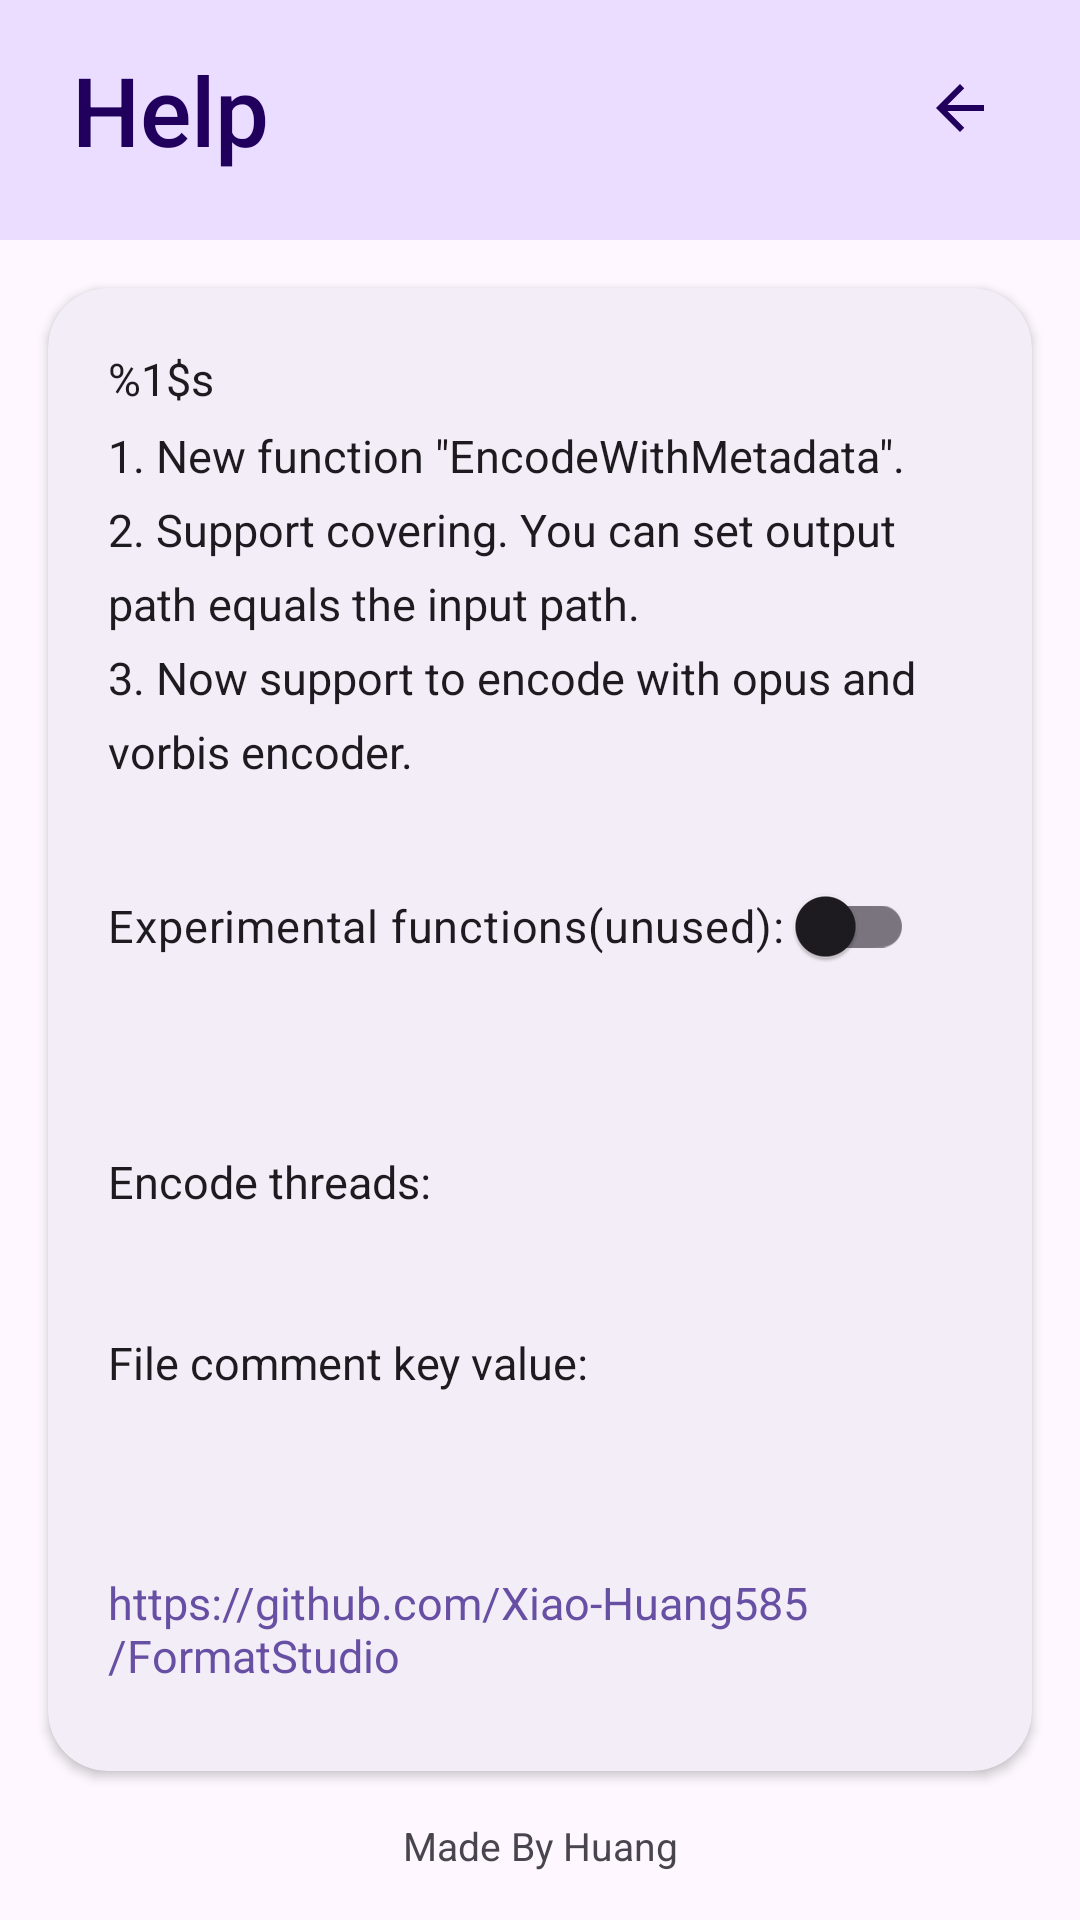

Icon bounding boxes for this 1080px×1920px phone screenshot, format (x1,y1,x2,y2):
arrow back: (936,84,984,132)
